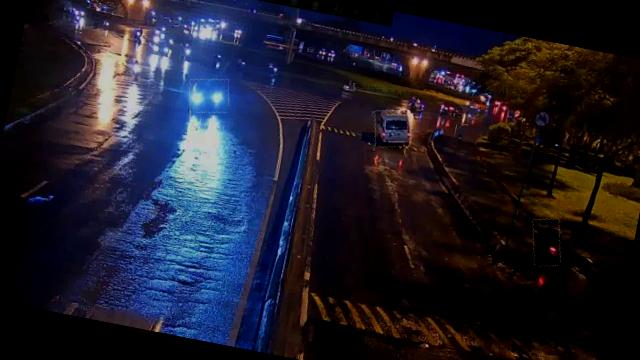Bike: (526, 216, 566, 269), (454, 122, 469, 142)
Bus: (370, 106, 416, 152)
Car: (185, 74, 232, 116)
